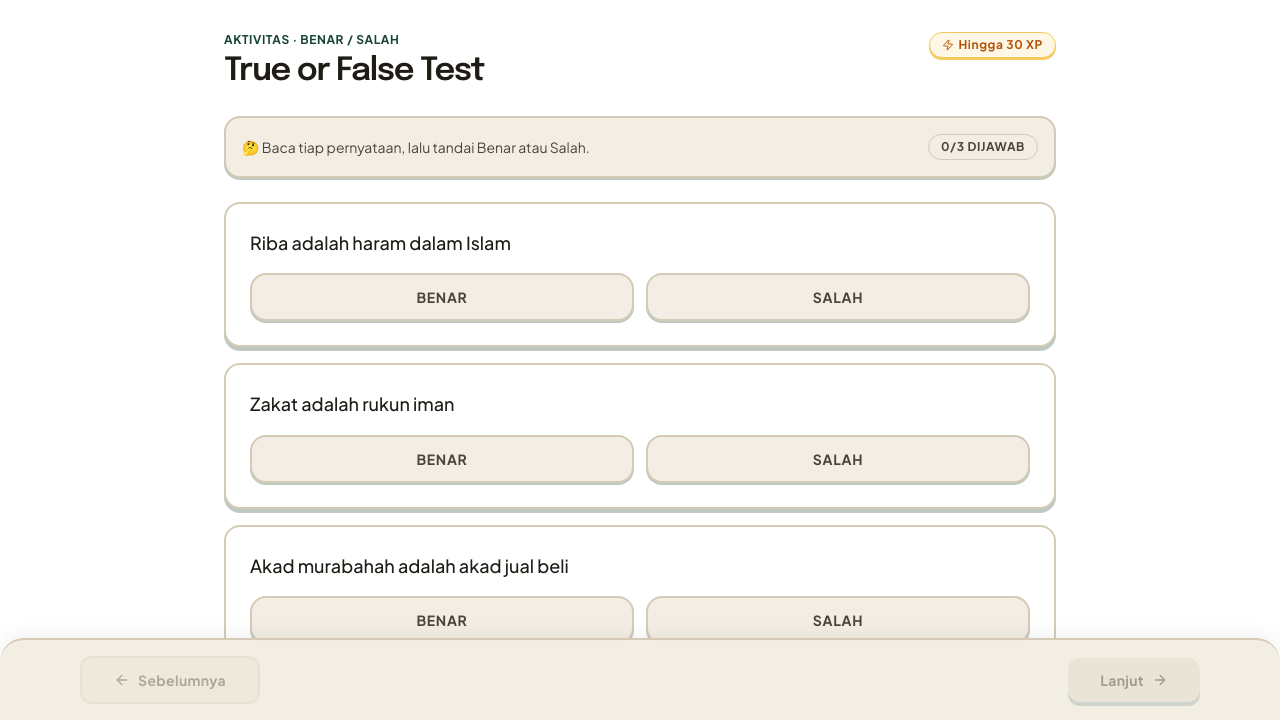
it: F6 — Aktivitas: True/False › TC-F.24: Student memilih jawaban pada salah satu pernyataan
The image size is (1280, 720).
Expected: the text "Riba adalah haram dalam Islam" is shown, 250,231 -> 511,254
Click the button "Benar" below "Riba adalah haram dalam Islam". click: (442, 297)
box: 250,273 -> 634,321
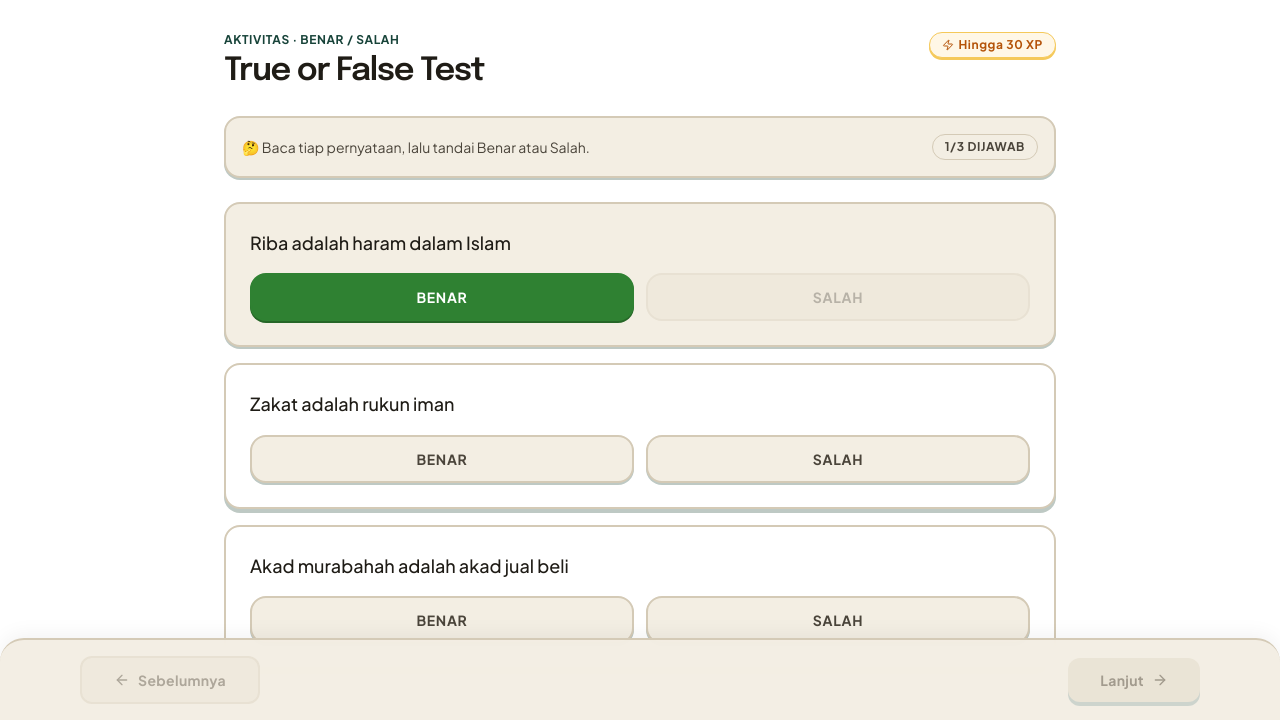
Expected: the button "Salah" below "Riba adalah haram dalam Islam" is disabled, 646,273 -> 1030,321
Expected: the button "Benar" below "Riba adalah haram dalam Islam" is disabled, 250,273 -> 634,321
